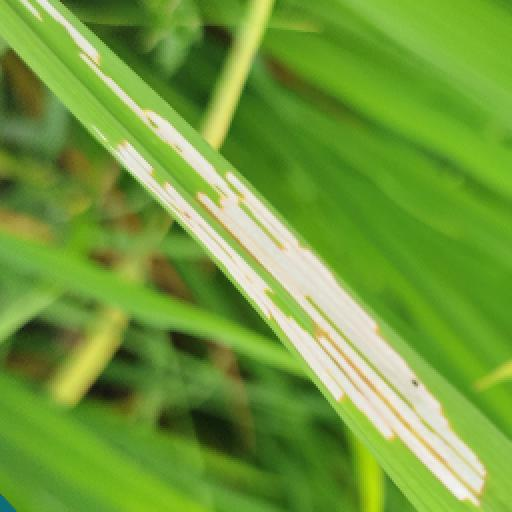Bacterial Leaf Blight: (18, 2, 512, 508)
